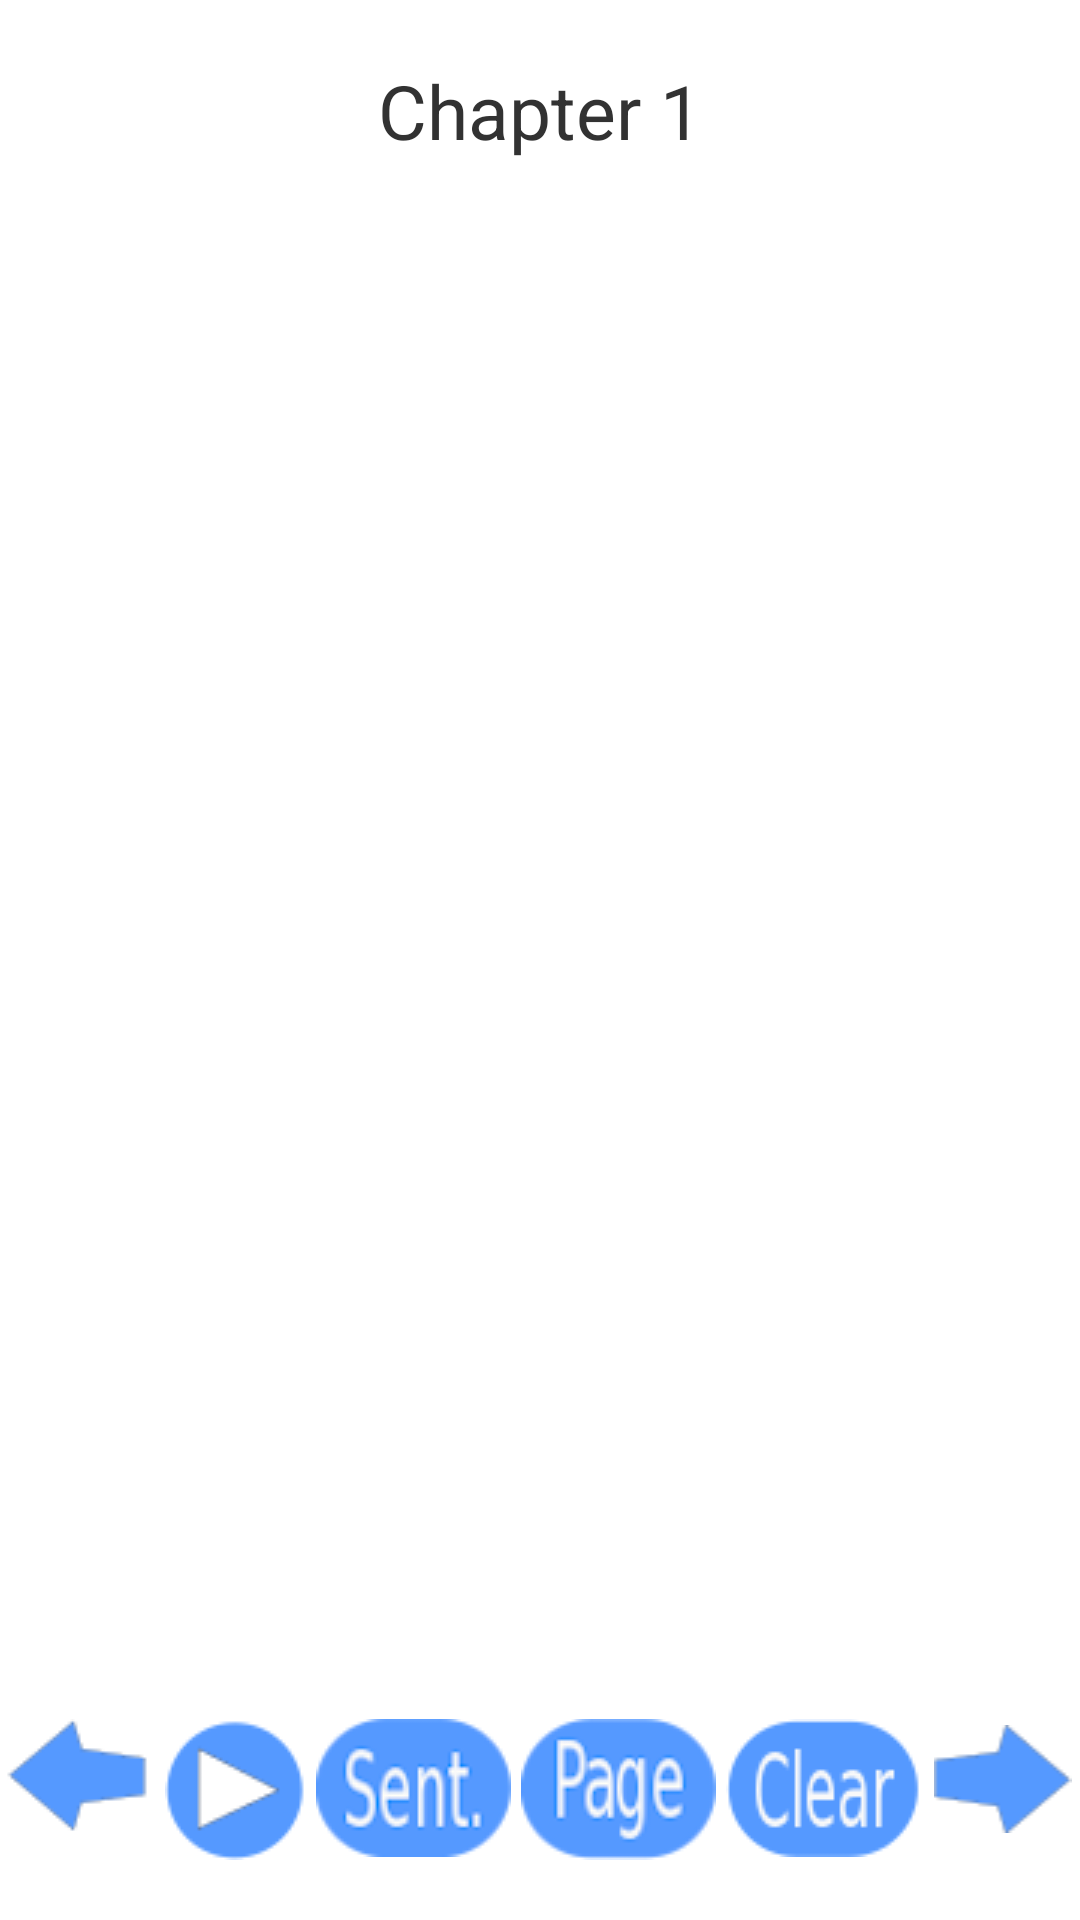

Icon click points for this 1080px x 1920px phone screenshot, format (x,y):
Image used as a play button: (234,1790)
Image used to turn back a page: (77,1776)
Image used to turn the page: (1003,1779)
